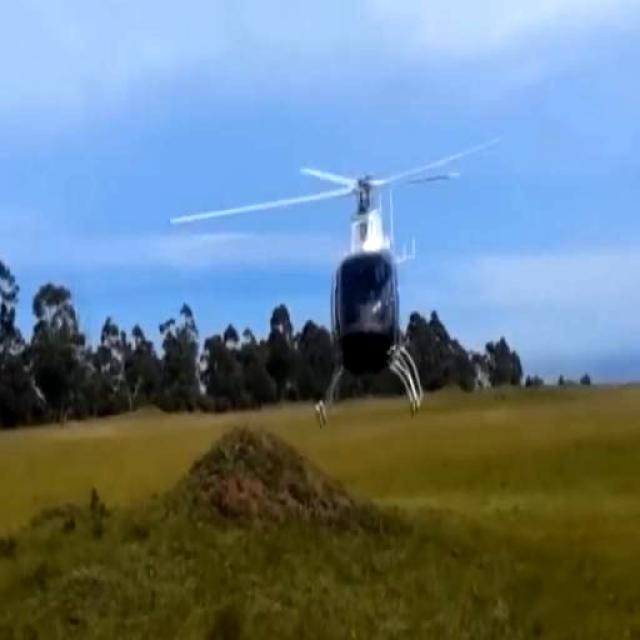drone: (280, 154, 462, 419)
